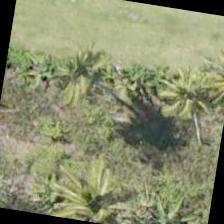Kelapa_Sawit: (30, 22, 134, 124), (130, 45, 223, 149), (48, 144, 149, 223)
